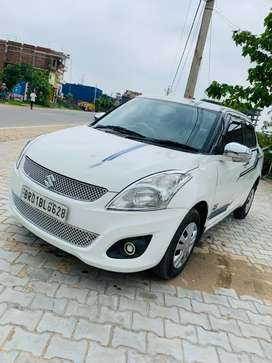BR01BL6628: (21, 185, 68, 223)
